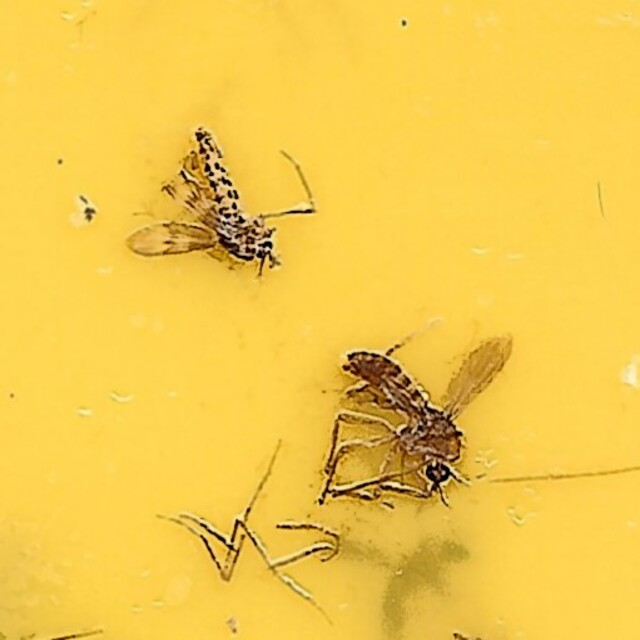Nematocera: (311, 343, 515, 511), (125, 129, 287, 285)
